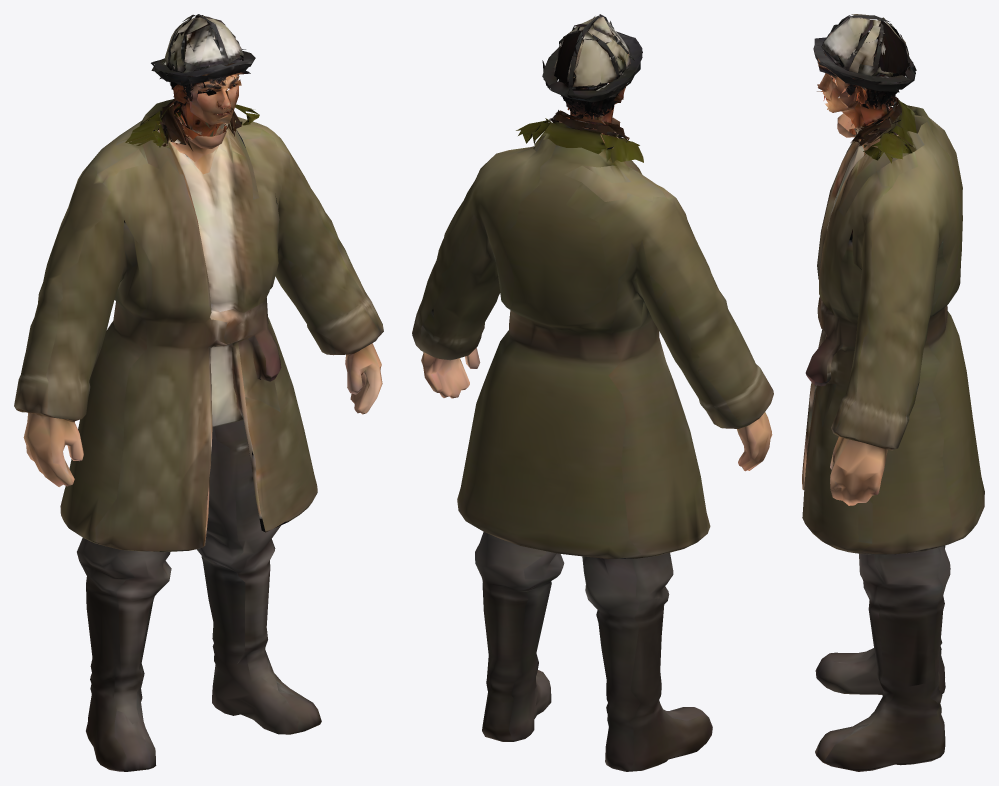
The model's file is herder-erlan.gen.glb.
The picture shows the model from 3 angles, left to right: view 1: azimuth 30°, elevation 25°; view 2: azimuth 150°, elevation 25°; view 3: azimuth 270°, elevation 25°; orthographic projection. The views are drawn at different scales.
Parts seen in each view (by area): view 1: herder-erlan.raw; view 2: herder-erlan.raw; view 3: herder-erlan.raw.
Boxes of the visible parts, <box> form: herder-erlan.raw: <box>14,14,383,771</box>; herder-erlan.raw: <box>412,14,773,771</box>; herder-erlan.raw: <box>802,14,984,771</box>.
Bounding box in the file's own units: 0.9567 × 1.85 × 0.4318.
1 material, 1 textured.
